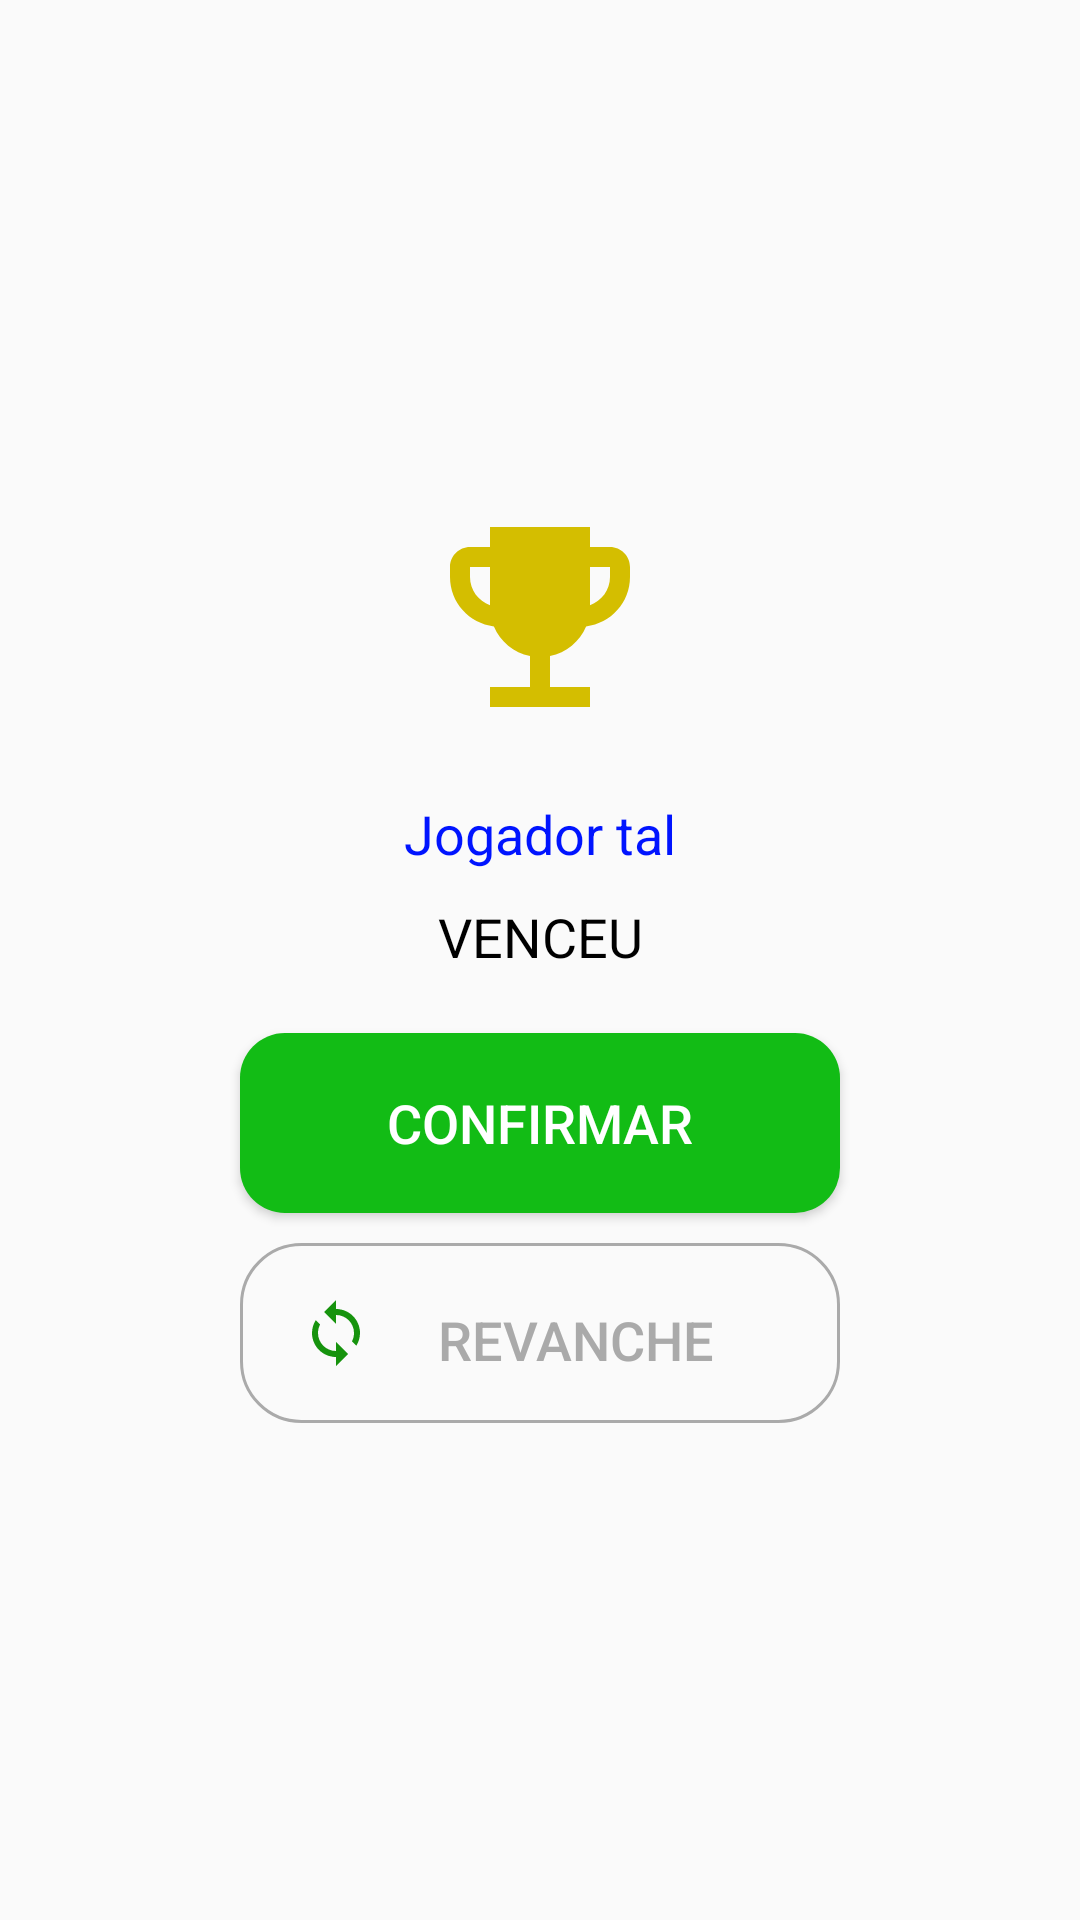

Screen size 1080×1920. Icon name, then its center in pixels as (x,y):
trofeu: (540,617)
